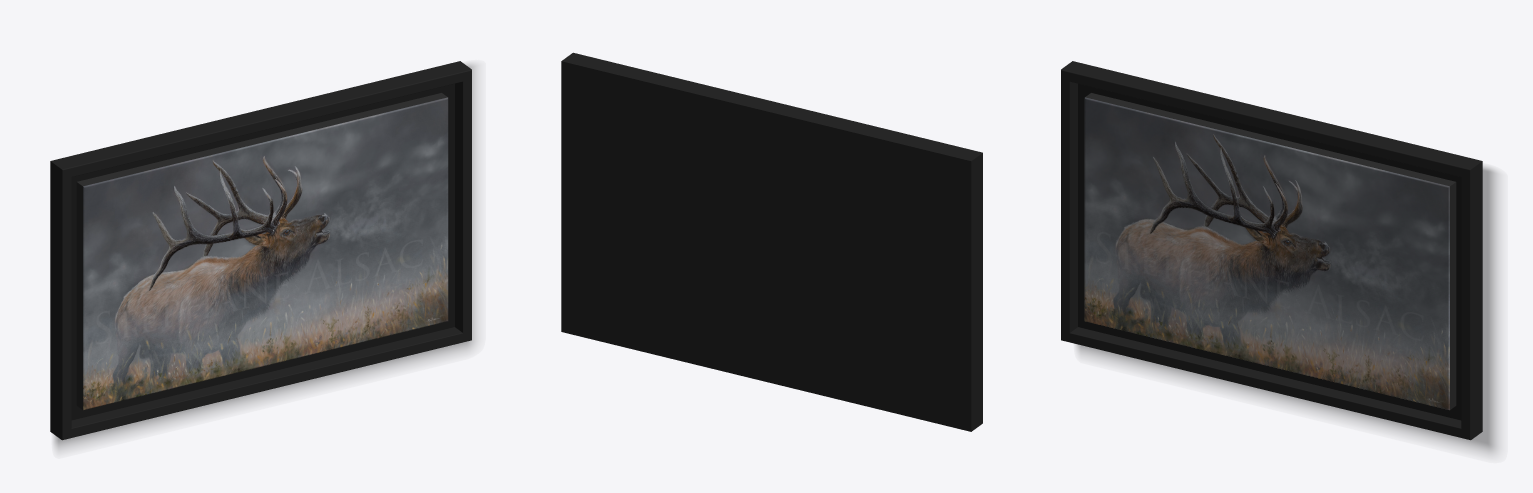
Rendered from tableau-wapiti-classique-02d9c797.glb.
3 renders of one model, left to right at view 1: azimuth 30°, elevation 25°; view 2: azimuth 150°, elevation 25°; view 3: azimuth 330°, elevation 25°, orthographic.
Parts seen in each view (by area): view 1: Painting; view 2: Painting; view 3: Painting.
Boxes of the visible parts, x1=… form: Painting: x1=50, y1=61, x2=475, y2=449; Painting: x1=561, y1=52, x2=982, y2=431; Painting: x1=1061, y1=61, x2=1497, y2=453.
Bounding box in the file's own units: 0.926 × 0.636 × 0.04.
5 materials, 3 textured.
